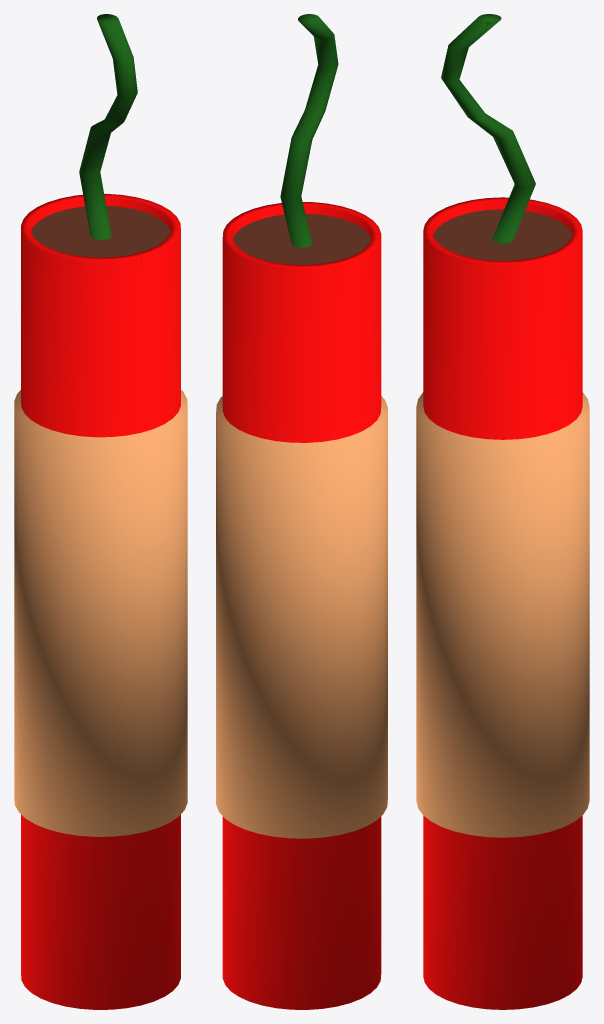
Rendered from one tnt.obj.
3 views of the same model, side by side, from view 1: azimuth 30°, elevation 25°; view 2: azimuth 150°, elevation 25°; view 3: azimuth 270°, elevation 25° (orthographic).
Parts seen in each view (by area): view 1: Cylinder; view 2: Cylinder; view 3: Cylinder.
Part boxes in pixels (x1=…): Cylinder: x1=14, y1=14, x2=187, y2=1009; Cylinder: x1=216, y1=14, x2=387, y2=1009; Cylinder: x1=416, y1=14, x2=589, y2=1009.
Size of the model in its own units: 2.17 by 13.24 by 2.17.
Materials: 1 (1 with a texture image).
